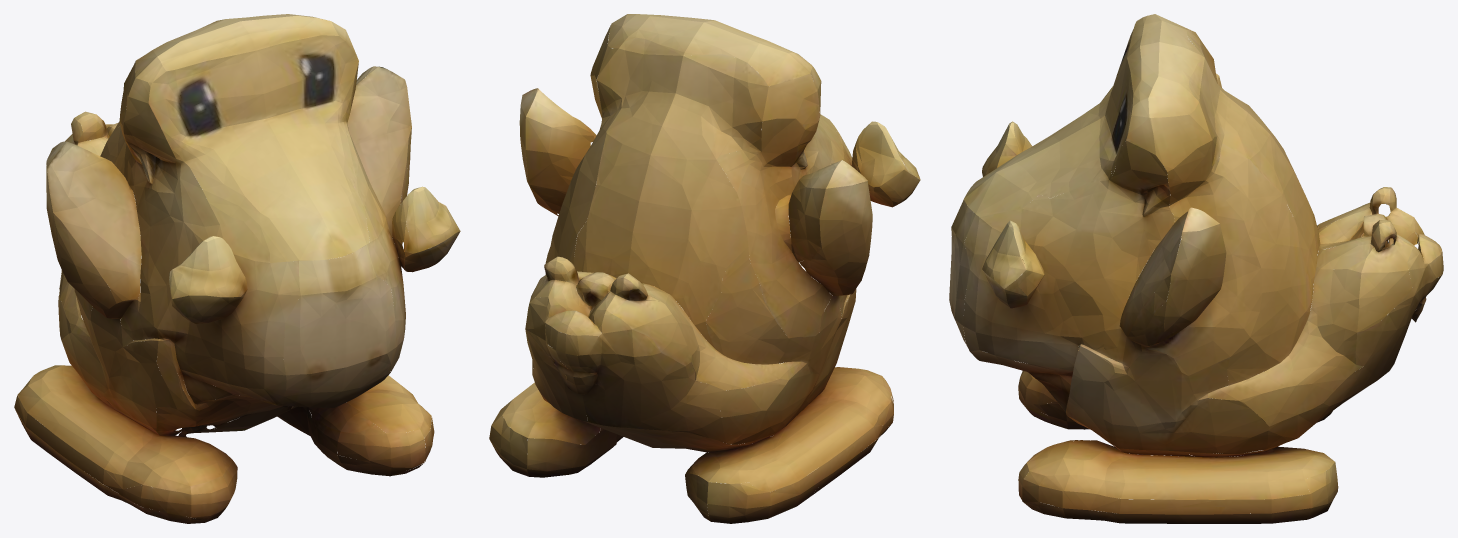
The picture shows the model from 3 angles, left to right: view 1: azimuth 30°, elevation 25°; view 2: azimuth 150°, elevation 25°; view 3: azimuth 270°, elevation 25°; orthographic projection. The views are drawn at different scales.
Visible parts, largest first — view 1: world; view 2: world; view 3: world.
Part boxes in pixels (bbox=[...]): world: bbox=[14, 14, 460, 523]; world: bbox=[489, 14, 920, 523]; world: bbox=[949, 14, 1443, 523].
Bounding box in the file's own units: 0.8157 × 0.9324 × 1.
Materials: 1 (1 with a texture image).
